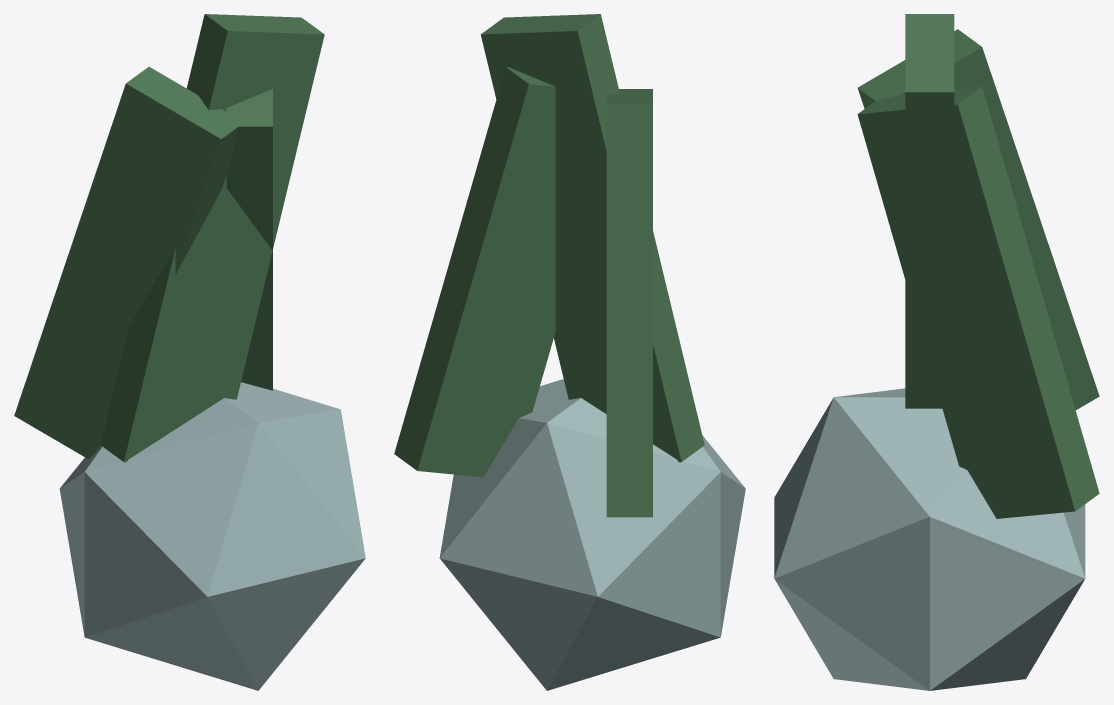
The model's file is turnip.glb.
3 views of the same model, side by side, from view 1: azimuth 30°, elevation 25°; view 2: azimuth 150°, elevation 25°; view 3: azimuth 270°, elevation 25° (orthographic). The views are drawn at different scales.
Parts seen in each view (by area): view 1: Bulb, L2, L0, L1; view 2: Bulb, L1, L0, L2; view 3: Bulb, L1, L0, L2.
Boxes of the visible parts, x1=… form: Bulb: x1=59, y1=382, x2=365, y2=690; L2: x1=14, y1=66, x2=238, y2=459; L0: x1=101, y1=14, x2=324, y2=462; L1: x1=226, y1=89, x2=272, y2=390; Bulb: x1=439, y1=379, x2=745, y2=690; L1: x1=394, y1=67, x2=555, y2=477; L0: x1=480, y1=14, x2=704, y2=462; L2: x1=606, y1=89, x2=652, y2=517; Bulb: x1=774, y1=388, x2=1085, y2=690; L1: x1=857, y1=87, x2=1099, y2=518; L0: x1=905, y1=14, x2=954, y2=408; L2: x1=857, y1=29, x2=1099, y2=409.
Bounding box in the file's own units: 0.2578 × 0.6037 × 0.267.
